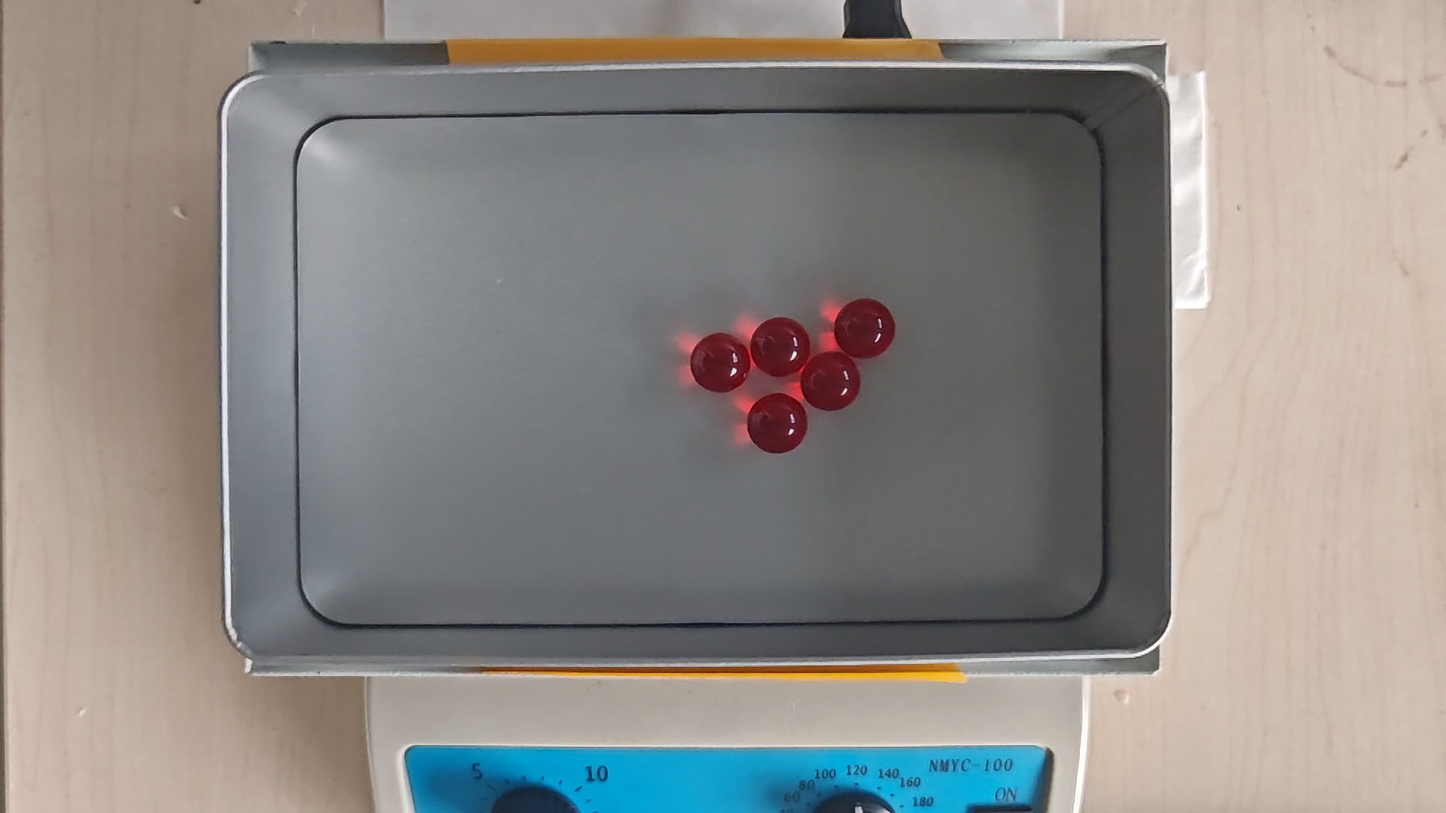ball: (689, 330, 751, 394), (834, 298, 897, 360), (747, 392, 808, 455), (752, 318, 810, 376), (803, 352, 859, 412)
container: (298, 110, 1103, 623)
